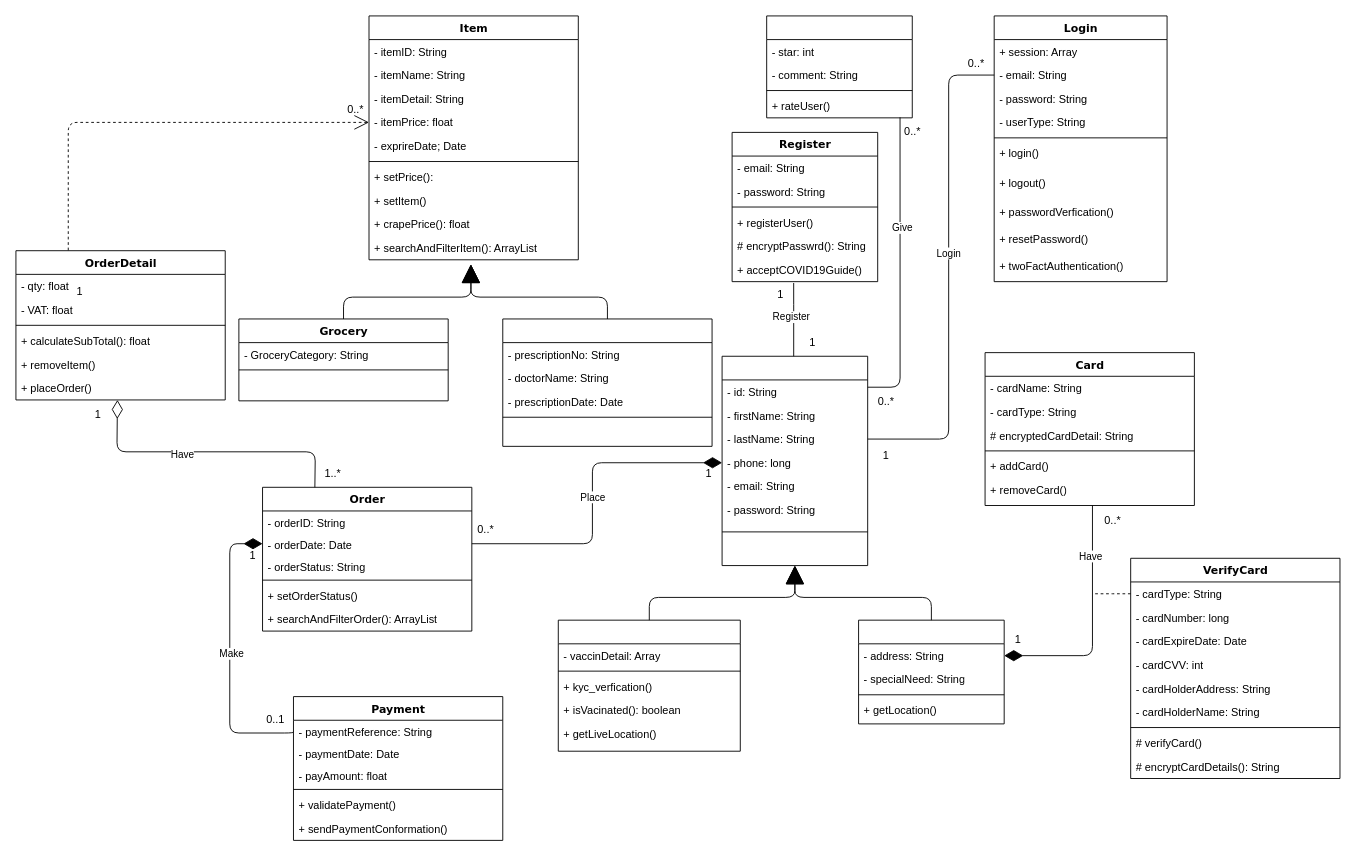
The diagram is 1356 pixels wide and 859 high, and some of its shapes have lost their labels. Here are the shapes that lost their labels. From the top down, the box of each, then its label:
(766, 15, 912, 118): FeedBack
(502, 318, 712, 446): Medicine
(721, 355, 868, 566): User
(557, 619, 740, 751): Volunteer
(858, 619, 1004, 724): Customers
